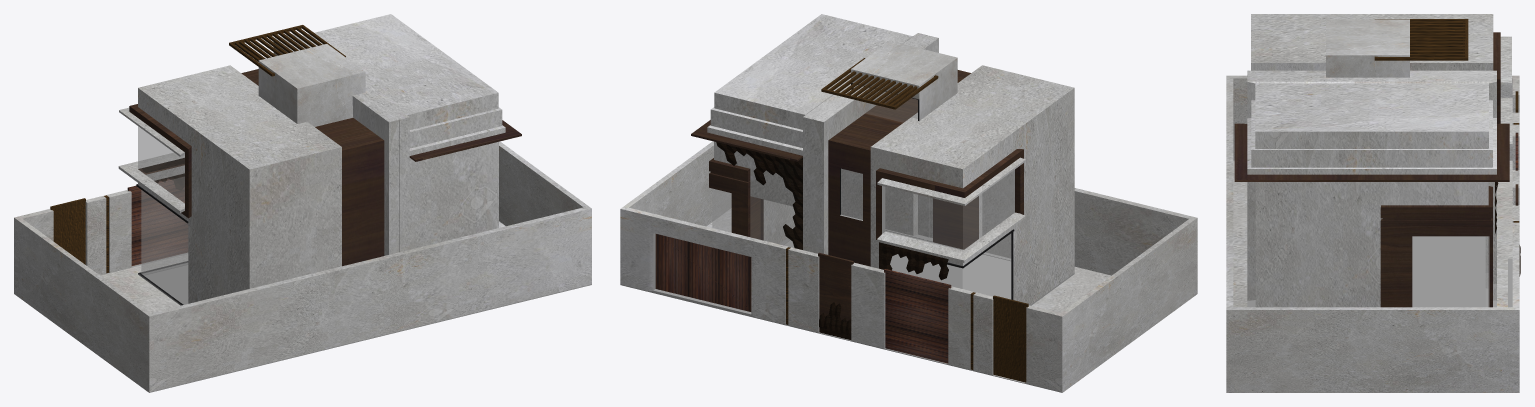
Rendered from Modren House 01.fbx.
The picture shows the model from 3 angles, left to right: view 1: azimuth 30°, elevation 25°; view 2: azimuth 150°, elevation 25°; view 3: azimuth 270°, elevation 25°; orthographic projection. The views are drawn at different scales.
Visible parts, largest first — view 1: pCube1, pCube2, pCube6, pCube8, pCube3, pPlane2; view 2: pCube1, pCube2, pCube8, pCube6, pCube3, pPlane1, pCube7, pPlane2, pPlane3; view 3: pCube1, pCube2, pCube6, pCube9.
Part boxes in pixels (x1,y1,x2,y2): pCube1: (118,14,521,305); pCube2: (14,141,591,392); pCube6: (258,44,365,126); pCube8: (127,179,187,265); pCube3: (50,198,85,264); pPlane2: (142,158,184,190); pCube1: (691,14,1074,305); pCube2: (620,141,1197,392); pCube8: (884,269,951,363); pCube6: (851,41,957,122); pCube3: (993,295,1028,382); pPlane1: (716,142,802,249); pCube7: (818,252,853,332); pPlane2: (879,242,948,280); pPlane3: (819,302,851,339); pCube1: (1234,14,1512,307); pCube2: (1226,75,1519,392); pCube6: (1326,19,1409,77); pCube9: (1374,57,1467,60).
Size of the model in its own units: 72.08 by 34.77 by 38.29.
Materials: 8 (6 with a texture image).
